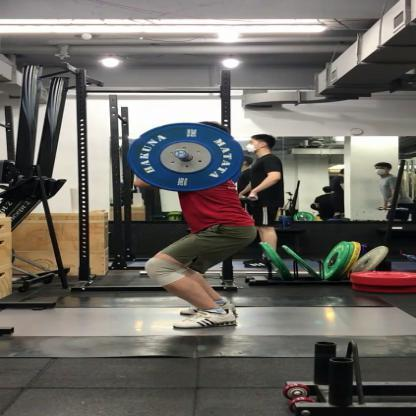barbell: (126, 120, 243, 190)
